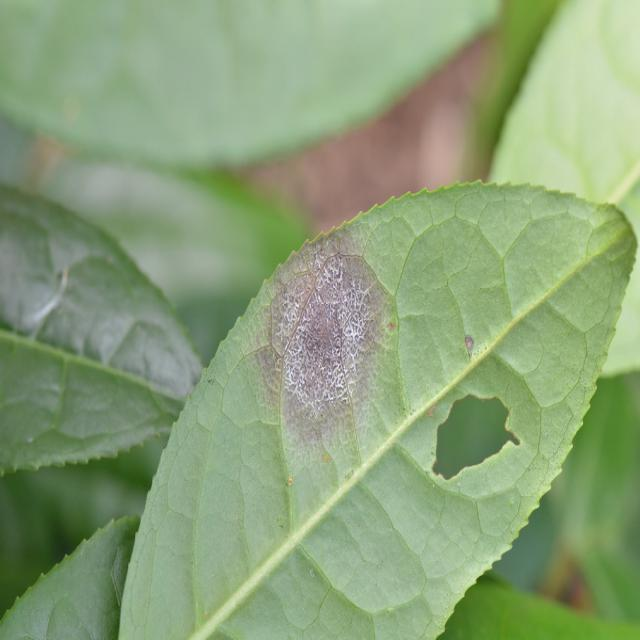Tea exobasidium blight: (266, 226, 385, 435)
